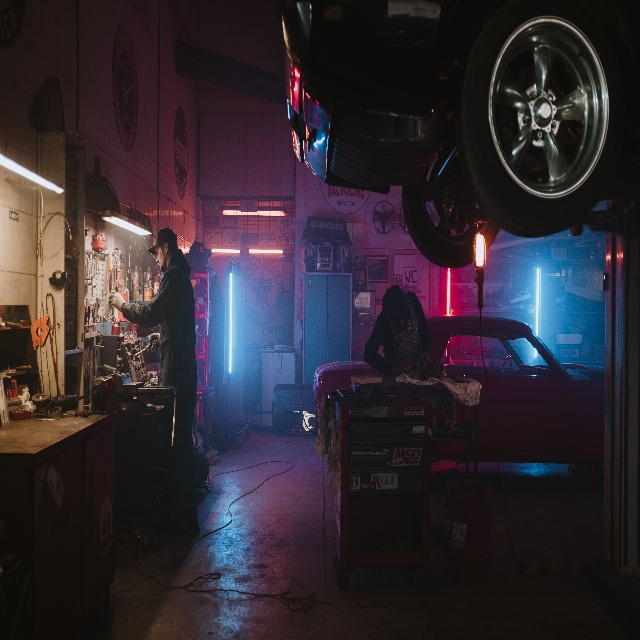Guantes: (109, 288, 125, 312)
Sin_guantes: (394, 359, 413, 375), (421, 352, 432, 368)
